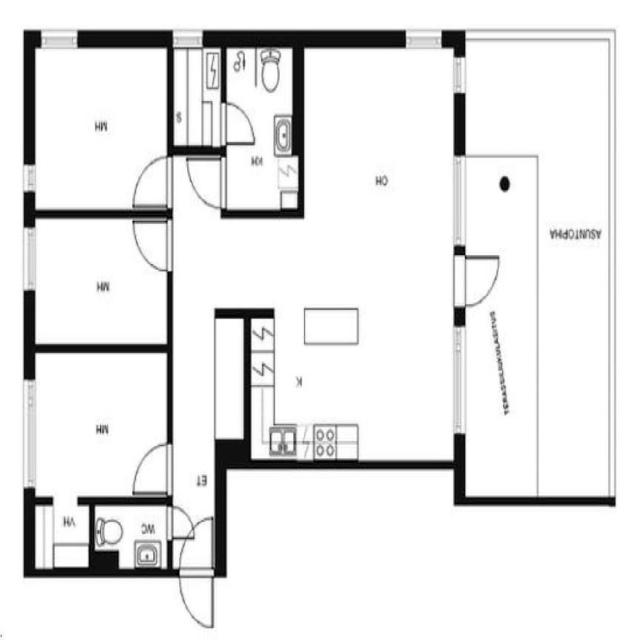door: (173, 514, 219, 632), (220, 71, 270, 174), (130, 213, 175, 276), (455, 248, 501, 308), (130, 440, 174, 496), (129, 152, 173, 208), (186, 151, 227, 211), (218, 99, 258, 150), (164, 505, 194, 542)
window: (17, 369, 42, 498), (450, 150, 472, 254), (452, 328, 468, 440), (19, 218, 39, 300), (398, 23, 450, 54), (36, 23, 86, 54), (170, 26, 207, 51), (18, 158, 38, 202), (450, 53, 468, 99)
zone: (296, 36, 460, 472), (245, 310, 456, 460), (30, 43, 171, 212), (28, 349, 173, 501), (29, 213, 170, 349), (224, 39, 297, 216), (218, 68, 275, 179), (172, 44, 224, 154), (92, 503, 171, 572), (29, 500, 92, 575)
